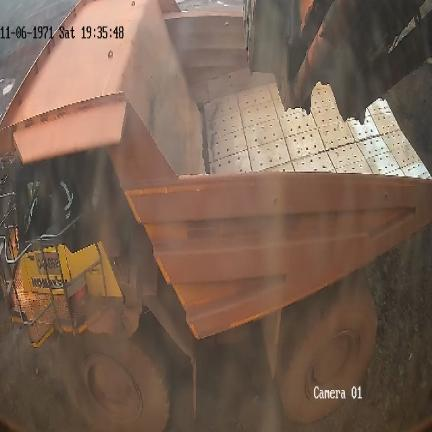pile: (373, 223, 431, 400)
